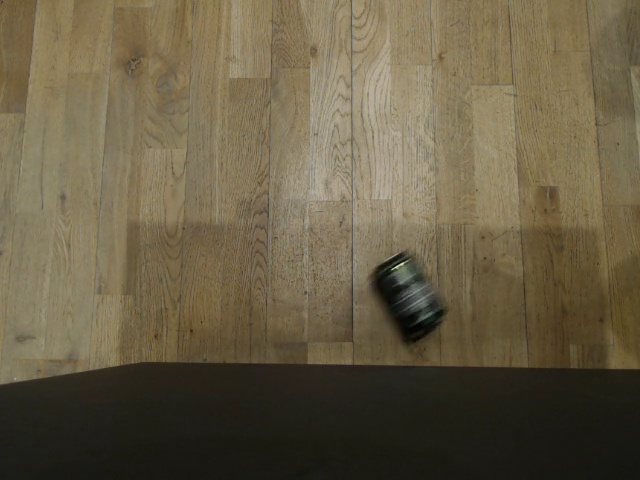beer: (364, 247, 460, 346)
